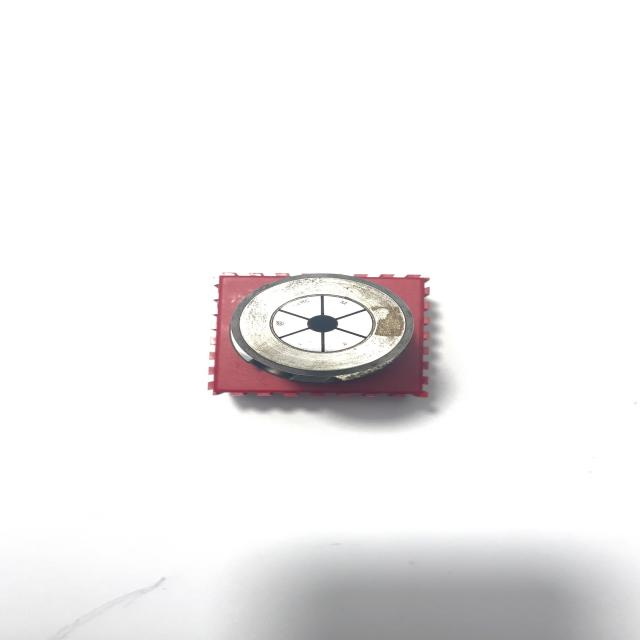Filled_Slot: (228, 274, 412, 383)
